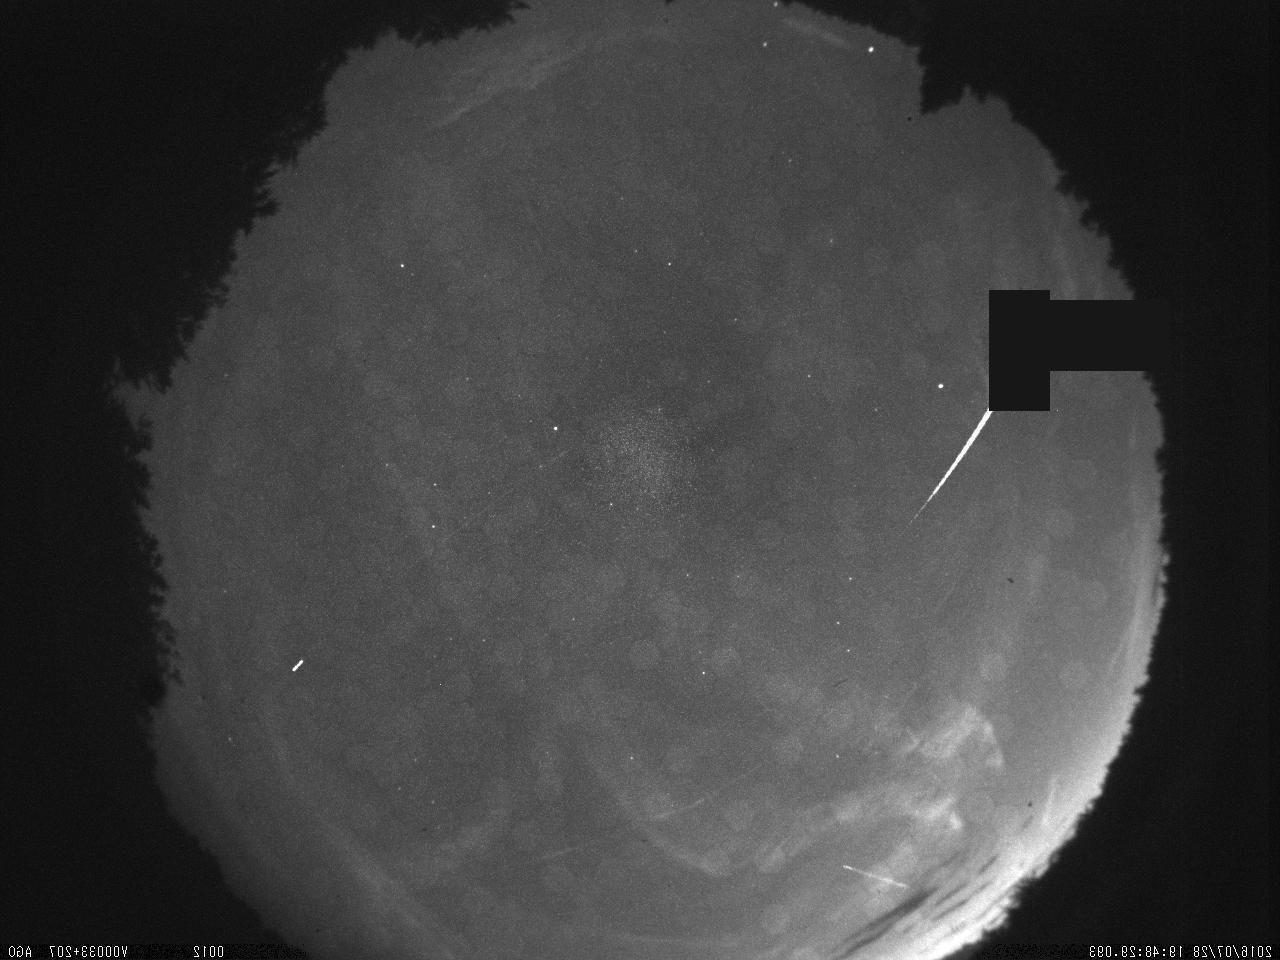meteor: (859, 312, 1074, 536)
